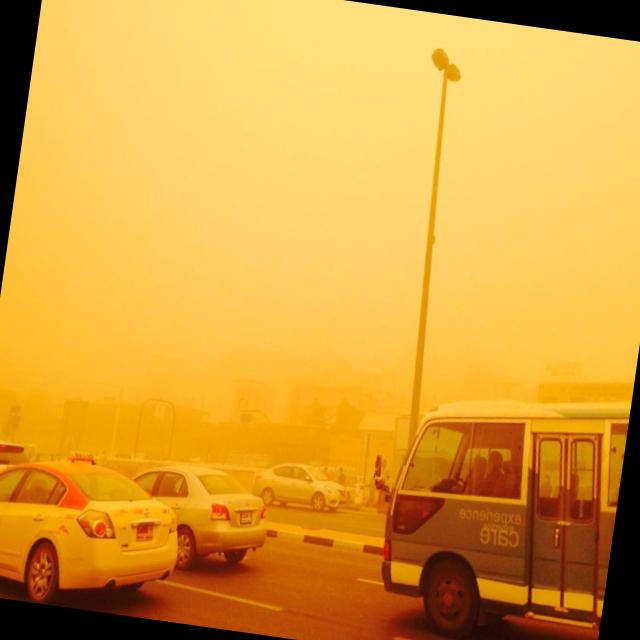car: (0, 452, 188, 620), (107, 455, 279, 575), (249, 460, 343, 514), (0, 431, 30, 510)
